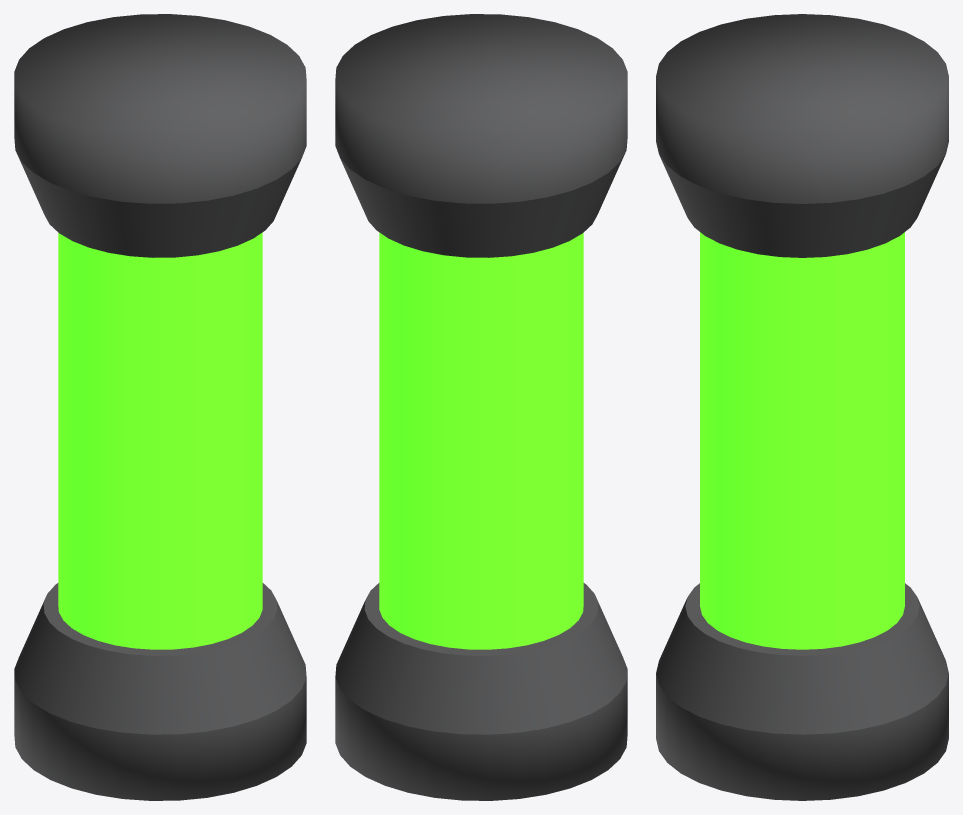
File: scene_virus.glb
3 views of the same model, side by side, from view 1: azimuth 30°, elevation 25°; view 2: azimuth 150°, elevation 25°; view 3: azimuth 270°, elevation 25° (orthographic).
Visible parts, largest first — view 1: EnergyCell; view 2: EnergyCell; view 3: EnergyCell.
Part boxes in pixels (<box>): EnergyCell: <box>14,14,306,800</box>; EnergyCell: <box>335,14,627,800</box>; EnergyCell: <box>656,14,948,800</box>.
Bounding box in the file's own units: 2 × 5 × 2.
